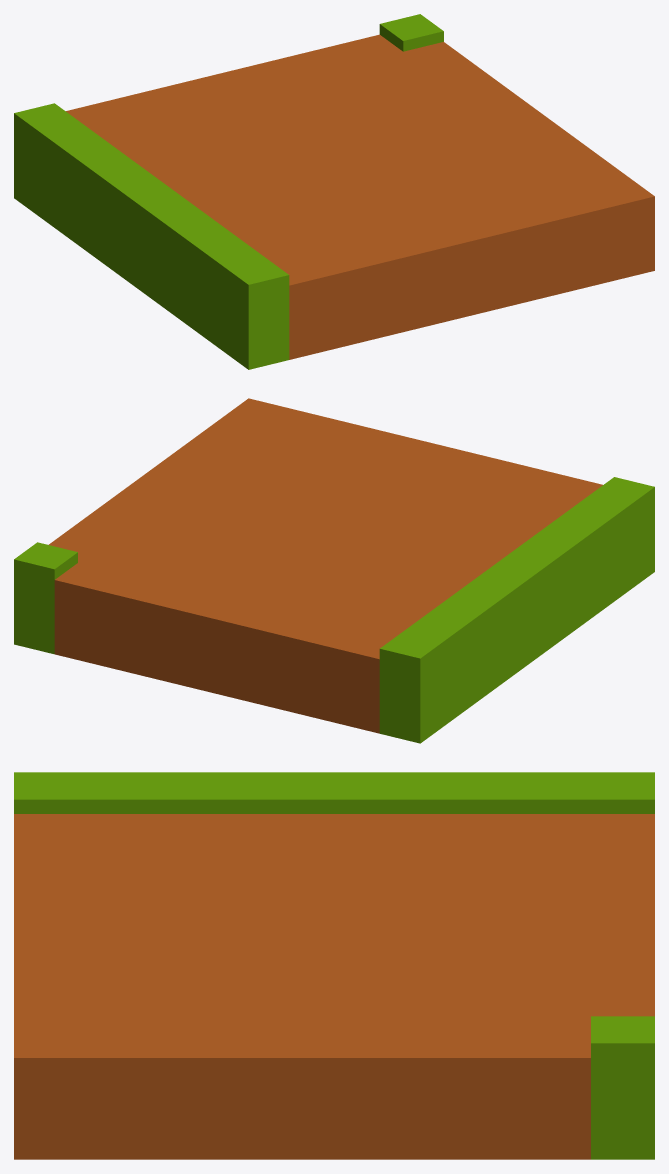
The model's file is TileGround_14.fbx.
The picture shows the model from 3 angles, top to bottom: view 1: azimuth 30°, elevation 25°; view 2: azimuth 150°, elevation 25°; view 3: azimuth 270°, elevation 25°; orthographic projection. The views are drawn at different scales.
Parts seen in each view (by area): view 1: TileGround_14; view 2: TileGround_14; view 3: TileGround_14.
Part boxes in pixels (bbox=[...]): TileGround_14: bbox=[14, 14, 654, 369]; TileGround_14: bbox=[14, 398, 654, 743]; TileGround_14: bbox=[14, 772, 654, 1159].
Bounding box in the file's own units: 500 × 100 × 500.
